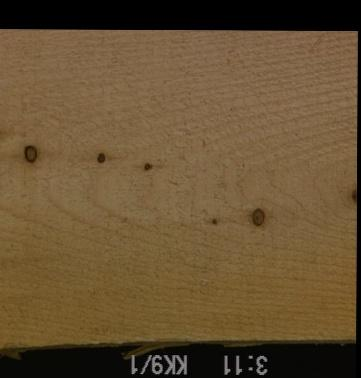dry_knot: (249, 208, 264, 227), (22, 144, 36, 163)
small_knot: (94, 152, 105, 164), (141, 161, 150, 172), (209, 218, 217, 227)
sound_knot: (349, 187, 355, 204)
